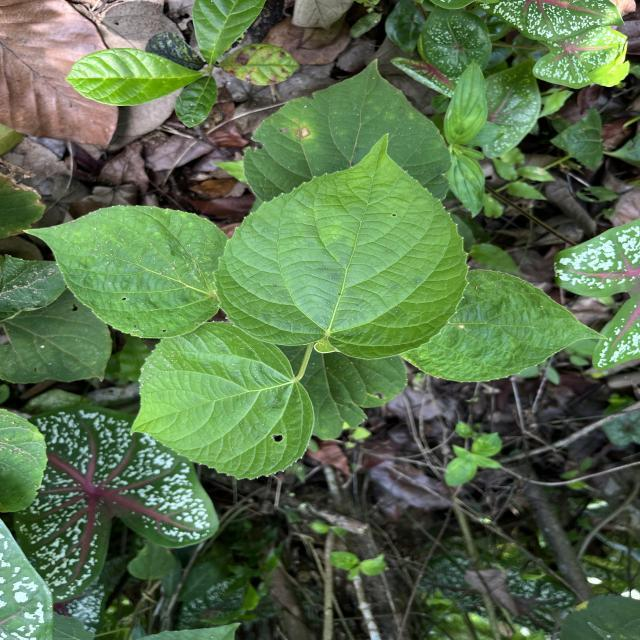Clerodendrum infortunatum: (212, 130, 469, 362), (128, 317, 316, 483), (242, 58, 454, 204), (22, 202, 234, 342), (400, 267, 612, 385)
